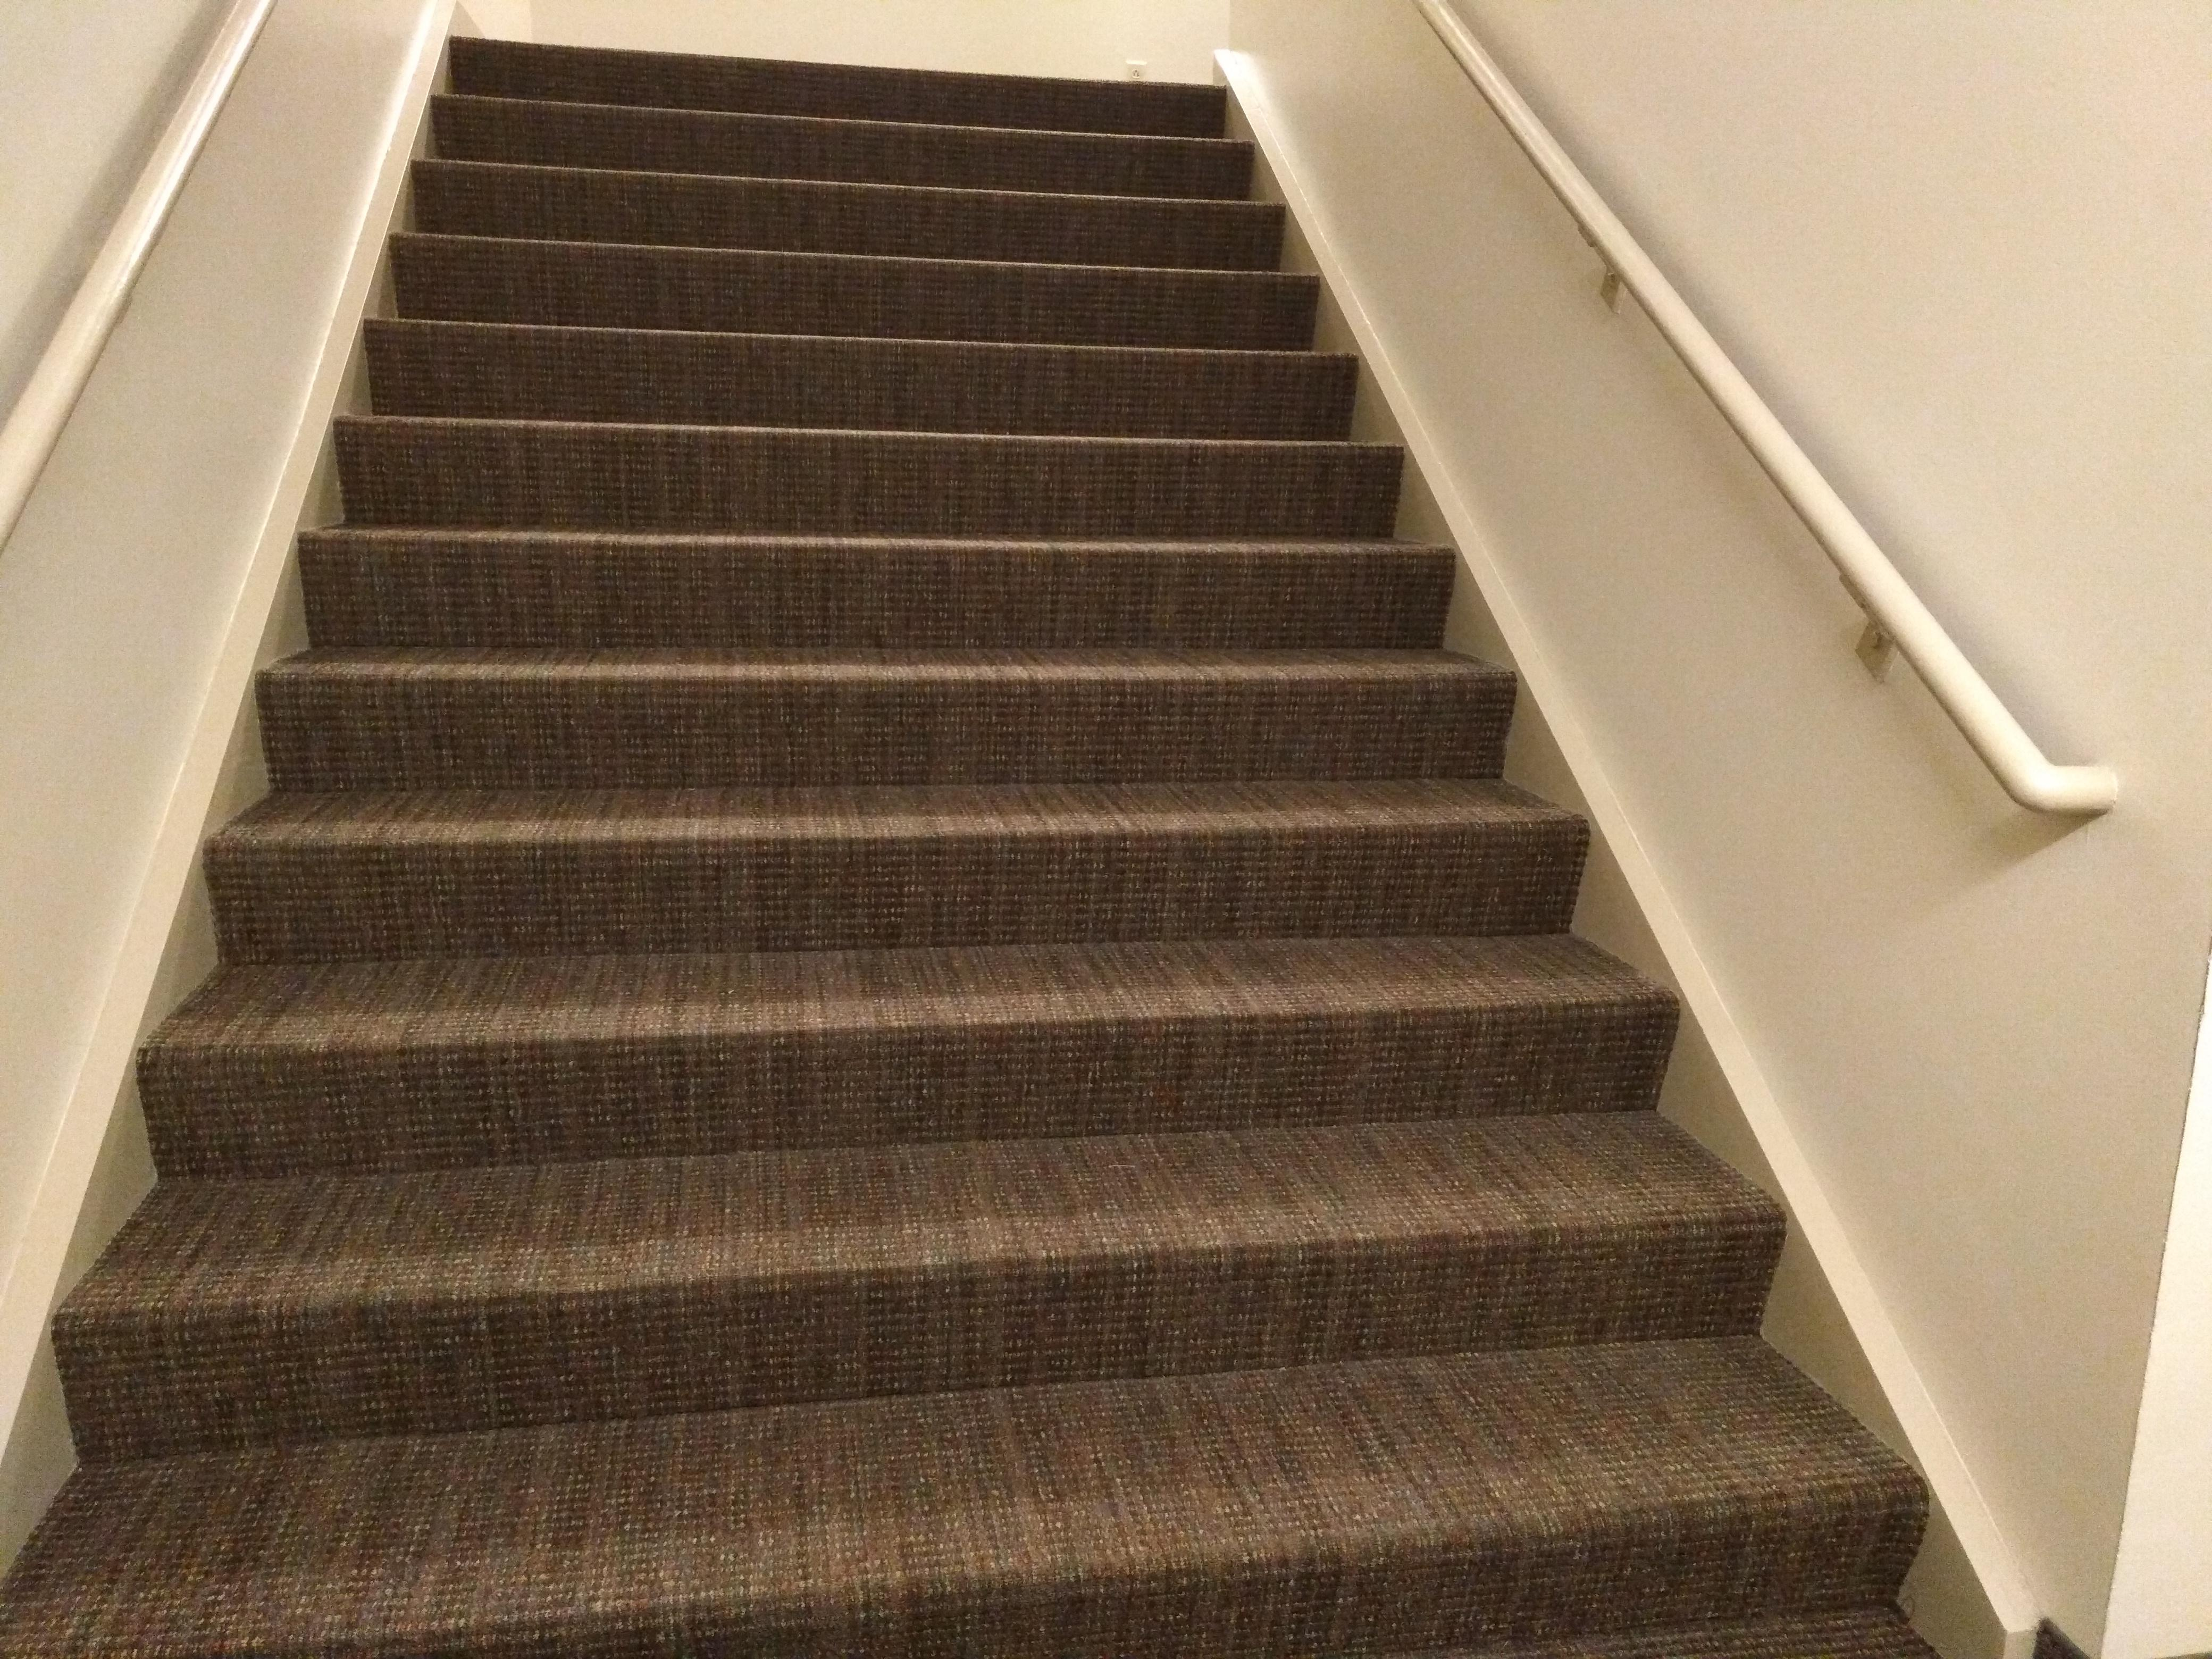stairs_up: (21, 23, 1930, 1638)
